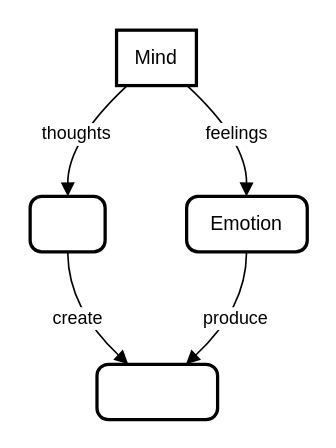
Image size: 336x448. Some labels were removed from this diagram. Here are the shapes that lost their labels. From the top down, the centre of each, then its label:
pixel 67 223: Idea
pixel 156 391: Concept
